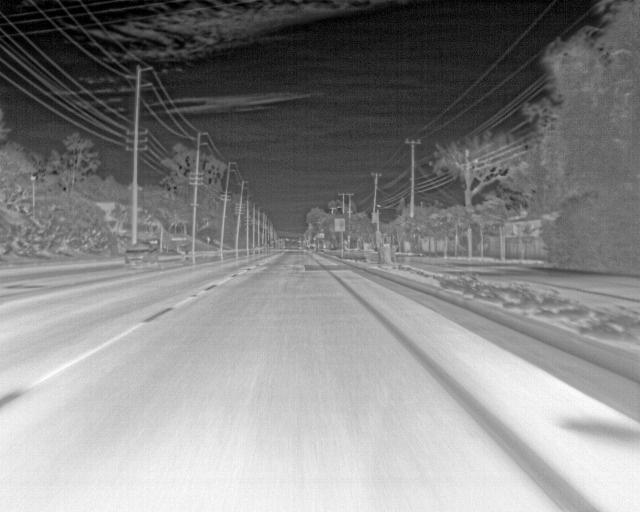car: (124, 240, 157, 264)
